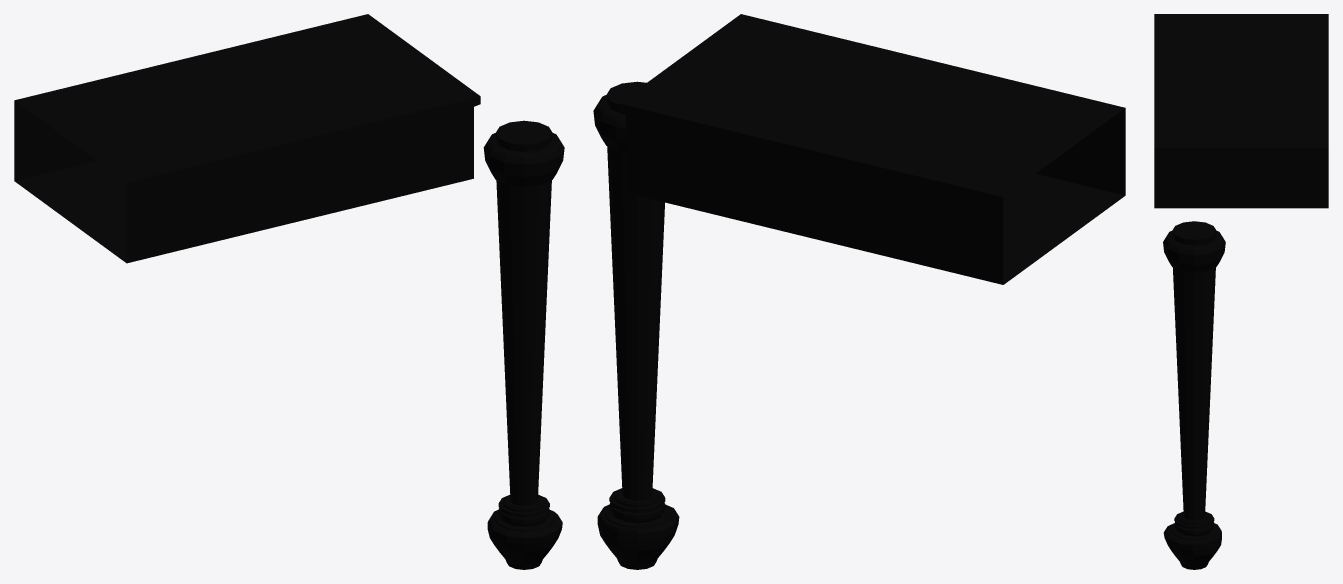
The model's file is sm_desk_low.obj.
3 renders of one model, left to right at view 1: azimuth 30°, elevation 25°; view 2: azimuth 150°, elevation 25°; view 3: azimuth 270°, elevation 25°, orthographic. The views are drawn at different scales.
Parts seen in each view (by area): view 1: Plane001; view 2: Plane001; view 3: Plane001.
Boxes of the visible parts, bbox=[...] form: Plane001: bbox=[14, 14, 564, 569]; Plane001: bbox=[593, 14, 1125, 569]; Plane001: bbox=[1154, 14, 1328, 569].
Size of the model in its own units: 93.72 by 98.12 by 39.8.
Materials: 1 (1 with a texture image).
